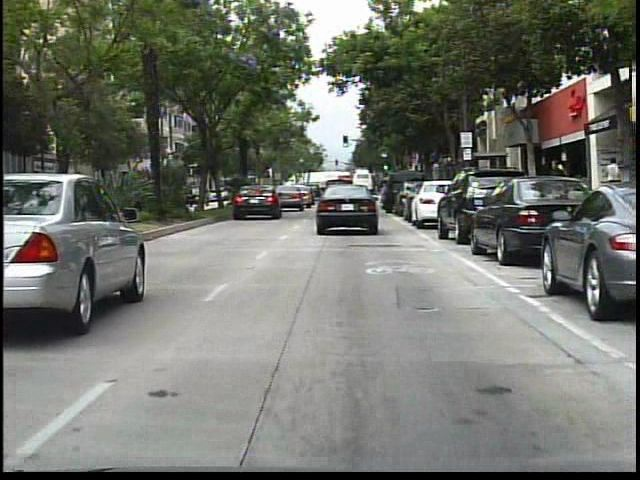person: (541, 156, 566, 222), (545, 159, 572, 219), (601, 151, 625, 218)
